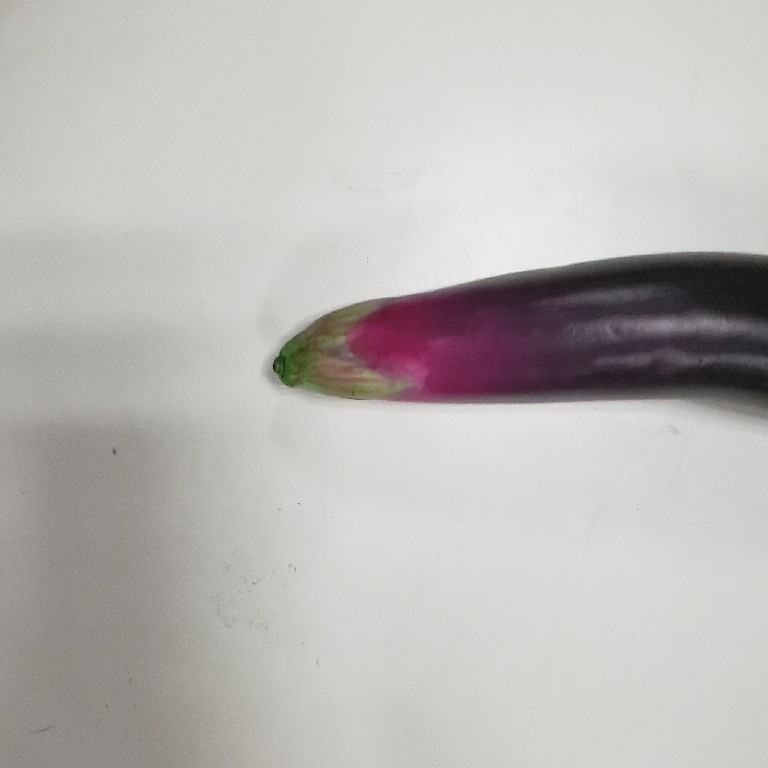fruit_eggplant: (255, 231, 768, 455)
